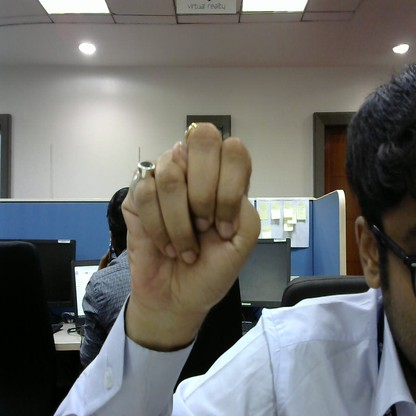n: (120, 116, 264, 321)
